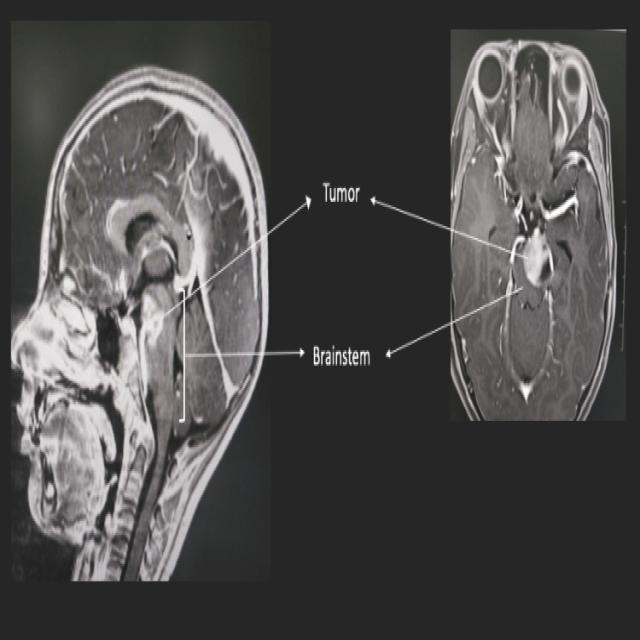Tumor: (138, 300, 168, 405), (523, 225, 557, 292)
